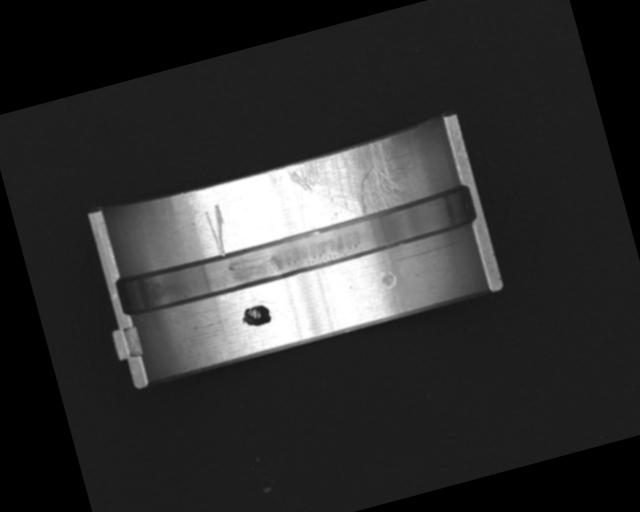blot: (238, 301, 273, 330)
bruise: (378, 266, 398, 291)
gap: (113, 184, 479, 319)
nick: (202, 202, 234, 258)
scratch: (285, 133, 416, 233)
